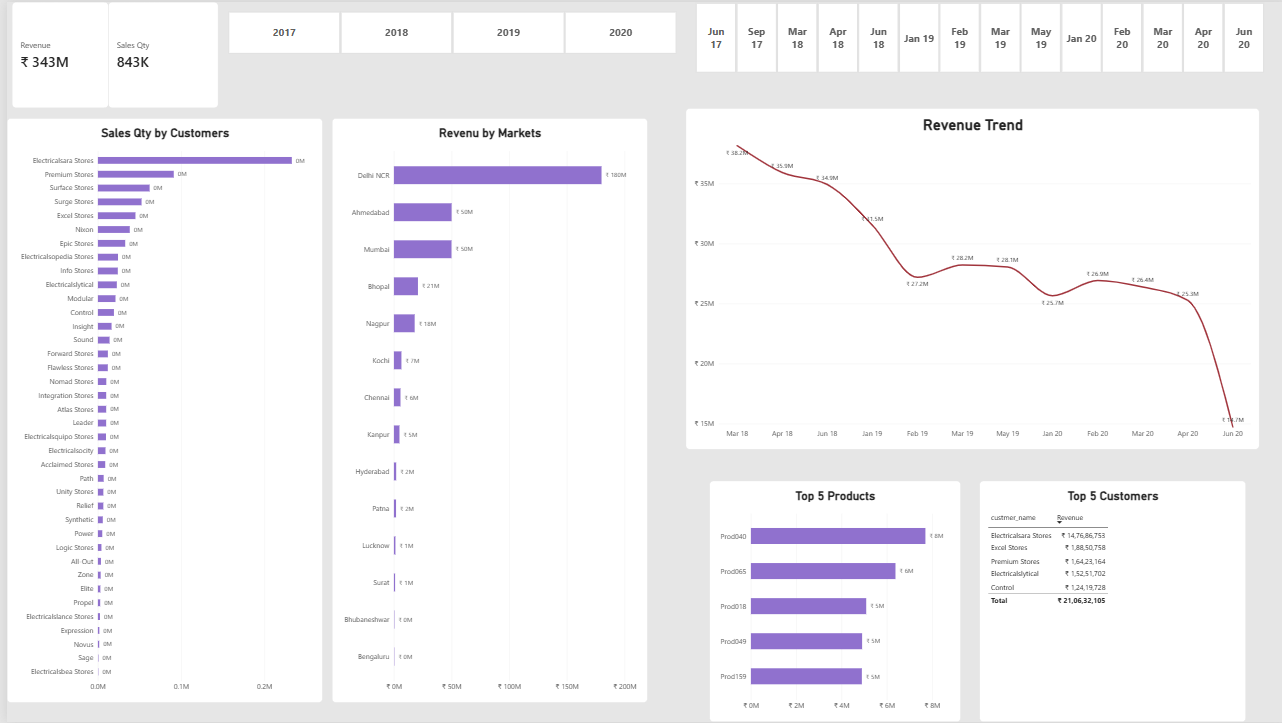

This screenshot's page, from the dashboard's own definition file:
{"tool":"powerbi","page":{"name":"Page 1","canvas":[2560,1440],"ordinal":0},"visuals":[{"type":"cardVisual","fields":{"Data":["BaseMeasure.Revenue"]},"box":[10.3,0,193.5,212],"z":0},{"type":"cardVisual","fields":{"Data":["BaseMeasure.Sales Qty"]},"box":[202.5,0,220,212.5],"z":1000},{"type":"barChart","title":"Revenu by Markets","fields":{"Category":["sales markets.markets_name"],"Y":["BaseMeasure.Revenue"]},"box":[650,232.5,631.2,1169.1],"z":2000},{"type":"barChart","title":"Sales Qty by Customers","fields":{"Category":["sales customers.custmer_name"],"Y":["BaseMeasure.Sales Qty"]},"box":[0,232.5,631.2,1169.1],"z":3000},{"type":"slicer","fields":{"Values":["sales date.year"]},"box":[422.5,17.5,935,87.5],"z":4000},{"type":"slicer","fields":{"Values":["sales date.cy_date"]},"box":[1357.5,0,1175,142.5],"z":5000},{"type":"barChart","title":"Top 5 Customers","fields":{"Category":["sales customers.custmer_name"],"Y":["BaseMeasure.Revenue"]},"box":[2000,956.7,488,444],"z":6000},{"type":"barChart","title":"Top 5 Products","fields":{"Category":["sales products.product_code"],"Y":["BaseMeasure.Revenue"]},"box":[1406,958,502,482],"z":7000},{"type":"lineChart","title":"Revenue Trend","fields":{"Category":["sales date.cy_date"],"Y":["BaseMeasure.Revenue"]},"box":[1357.5,212.5,1147.5,682.5],"z":8000}]}

Visuals, with their boxes in screenshot pixels (x1, y1, x2, y2), scaled from the page's 2560x1440 canvas onto the 1282x723 screenshot:
cardVisual - BaseMeasure.Revenue: 5:0:102:106
cardVisual - BaseMeasure.Sales Qty: 101:0:212:107
"Revenu by Markets" barChart: 326:117:642:704
"Sales Qty by Customers" barChart: 0:117:316:704
slicer - sales date.year: 212:9:680:53
slicer - sales date.cy_date: 680:0:1268:72
"Top 5 Customers" barChart: 1002:480:1246:703
"Top 5 Products" barChart: 704:481:955:722
"Revenue Trend" lineChart: 680:107:1254:449
